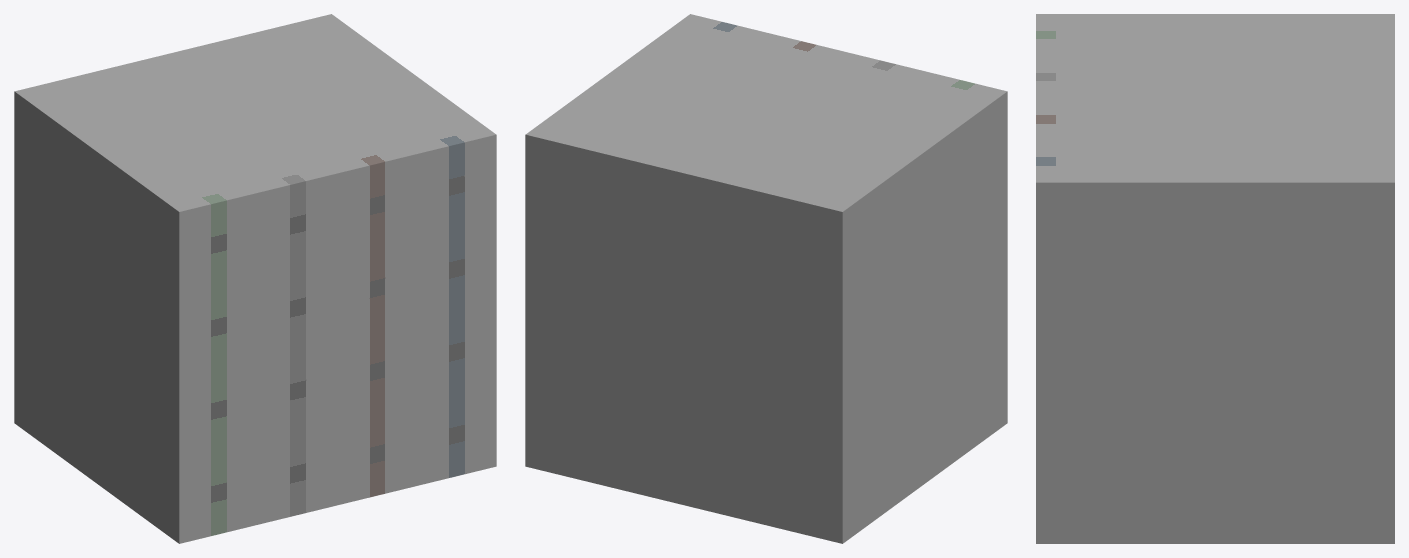
File: full_edge.glb
3 renders of one model, left to right at view 1: azimuth 30°, elevation 25°; view 2: azimuth 150°, elevation 25°; view 3: azimuth 270°, elevation 25°, orthographic. The views are drawn at different scales.
Visible parts, largest first — view 1: full_edge; view 2: full_edge; view 3: full_edge.
Part boxes in pixels (x1=…): full_edge: x1=14, y1=14, x2=496, y2=543; full_edge: x1=525, y1=14, x2=1007, y2=543; full_edge: x1=1036, y1=14, x2=1394, y2=543.
Size of the model in its own units: 2 by 2 by 1.8.
1 material, 1 textured.
